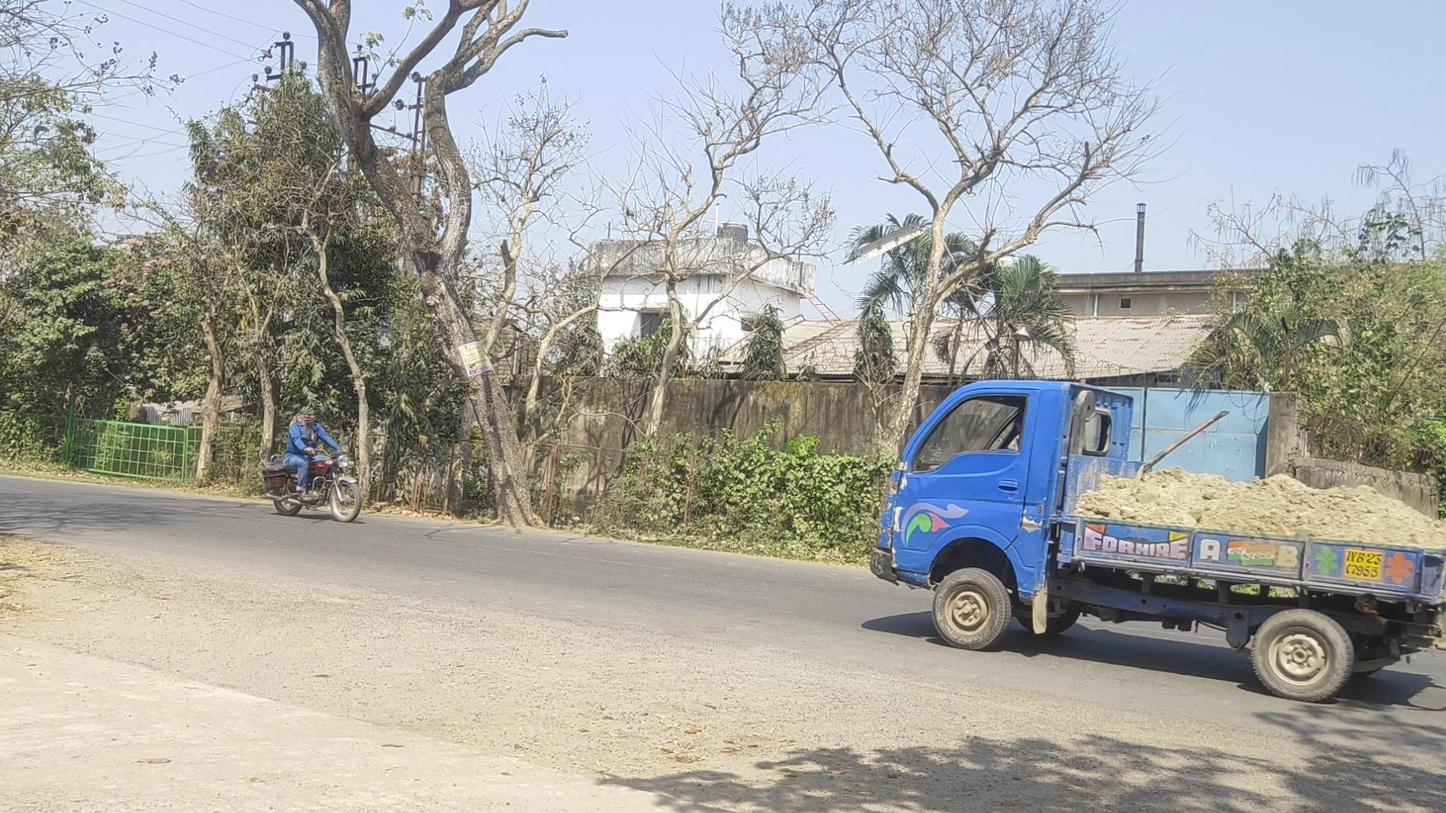bike: (261, 406, 362, 522)
van: (870, 379, 1446, 702)
